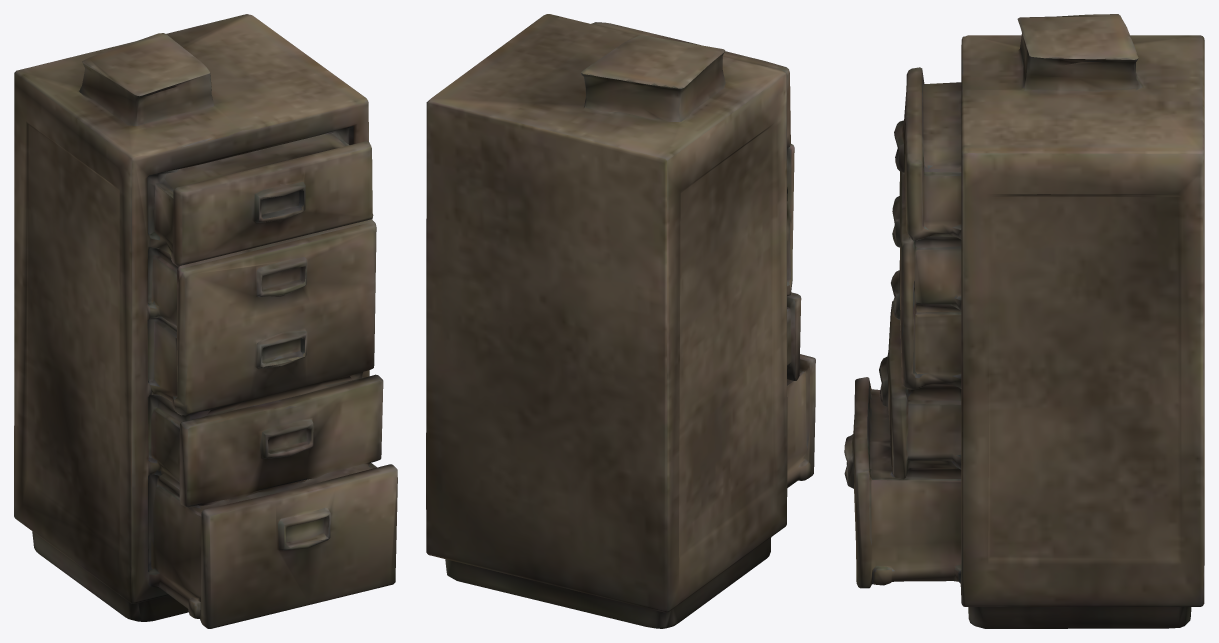
File: old-wood-filing-cabinet-v001.glb
3 views of the same model, side by side, from view 1: azimuth 30°, elevation 25°; view 2: azimuth 150°, elevation 25°; view 3: azimuth 270°, elevation 25° (orthographic).
Visible parts, largest first — view 1: old-wood-filing-cabinet; view 2: old-wood-filing-cabinet; view 3: old-wood-filing-cabinet.
Part boxes in pixels (bbox=[...]): old-wood-filing-cabinet: bbox=[14, 14, 397, 628]; old-wood-filing-cabinet: bbox=[426, 14, 815, 628]; old-wood-filing-cabinet: bbox=[844, 14, 1204, 628].
Size of the model in its own units: 0.6389 by 1.29 by 0.8163.
Materials: 1 (1 with a texture image).
